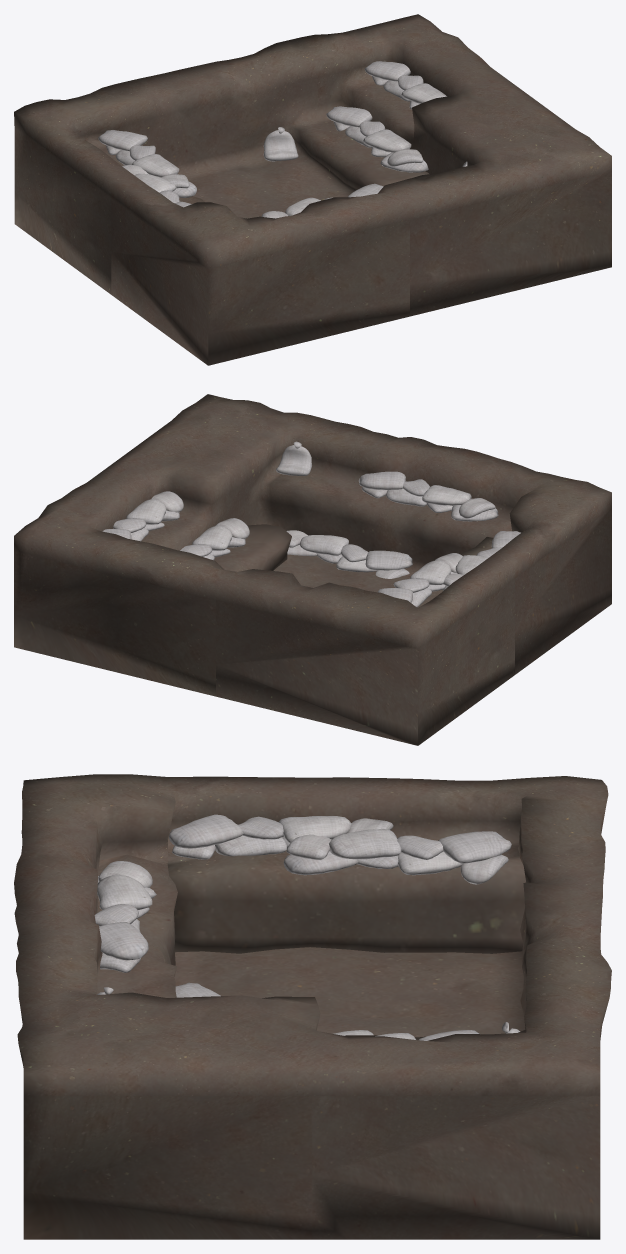
File: DigPit ( NEW JOINED).fbx
3 renders of one model, top to bottom at view 1: azimuth 30°, elevation 25°; view 2: azimuth 150°, elevation 25°; view 3: azimuth 270°, elevation 25°, orthographic. The views are drawn at different scales.
Parts seen in each view (by area): view 1: Cone; view 2: Cone; view 3: Cone.
Boxes of the visible parts, x1=… form: Cone: x1=14, y1=14, x2=611, y2=365; Cone: x1=14, y1=394, x2=611, y2=745; Cone: x1=14, y1=774, x2=611, y2=1239.
Size of the model in its own units: 50617 by 14250 by 43038.
